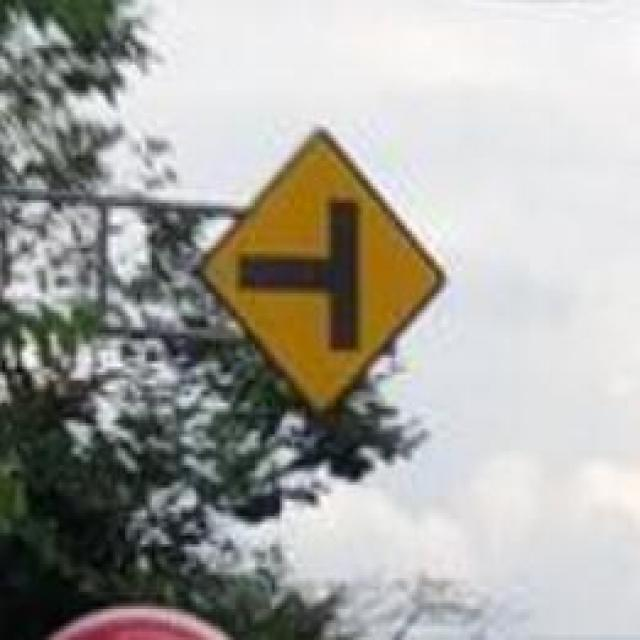traffic sign: (201, 136, 451, 418)
